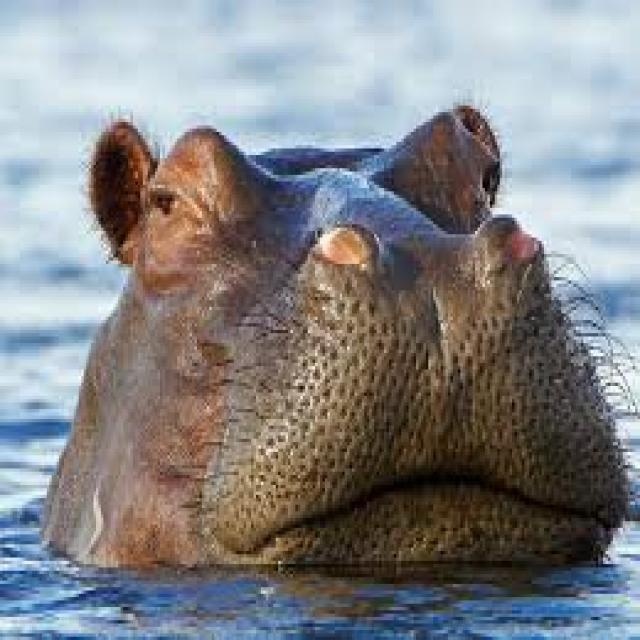Hippopotamus: (51, 110, 619, 584)
